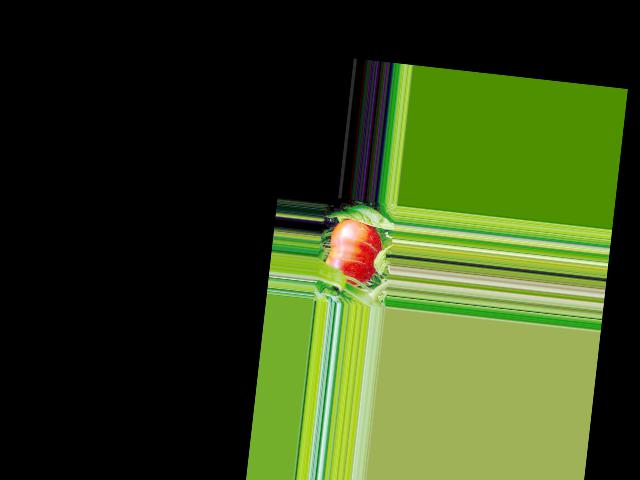tomato: (323, 216, 384, 289)
